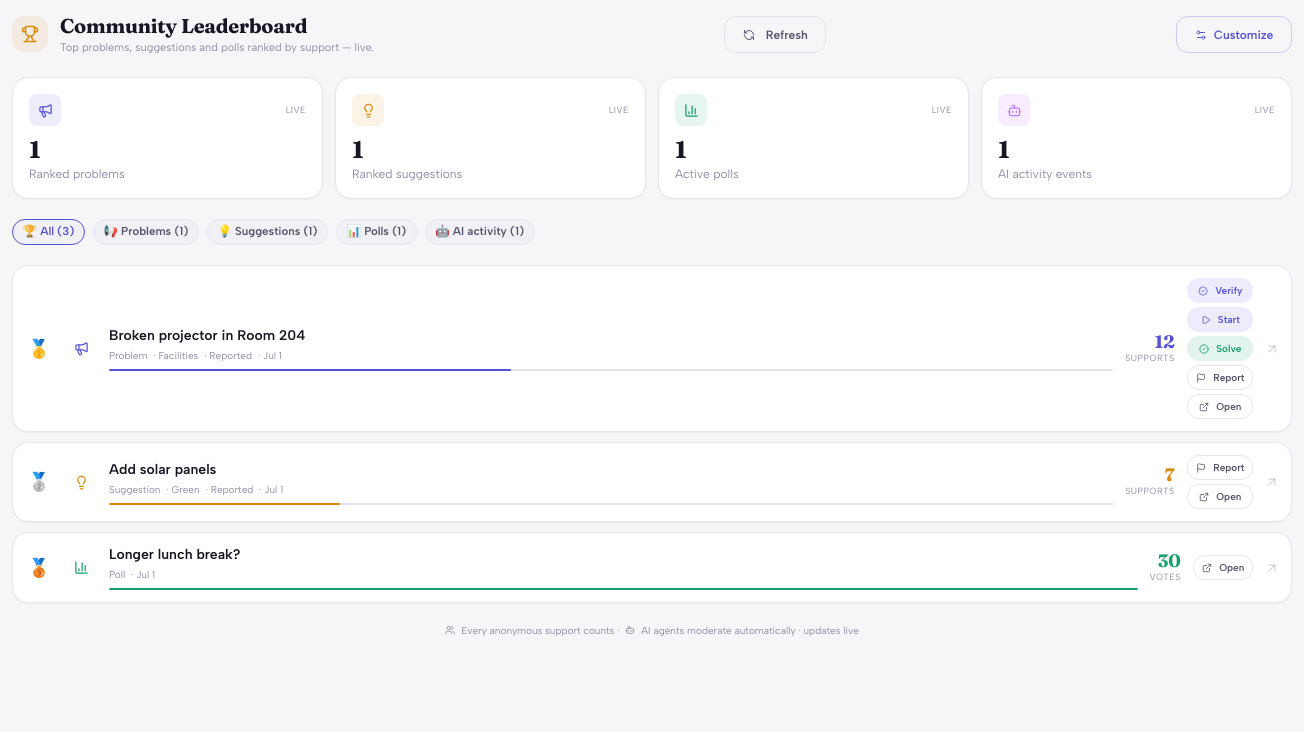
Test case: AdminLeaderboard — AI activity tab › renders AI activity entries with kind badge and time
Expected: the text "Broken projector in Room 204" is shown, 109,327 -> 305,344
Click the button "🤖 AI activity (1)": click(480, 232) 425,218 -> 534,245
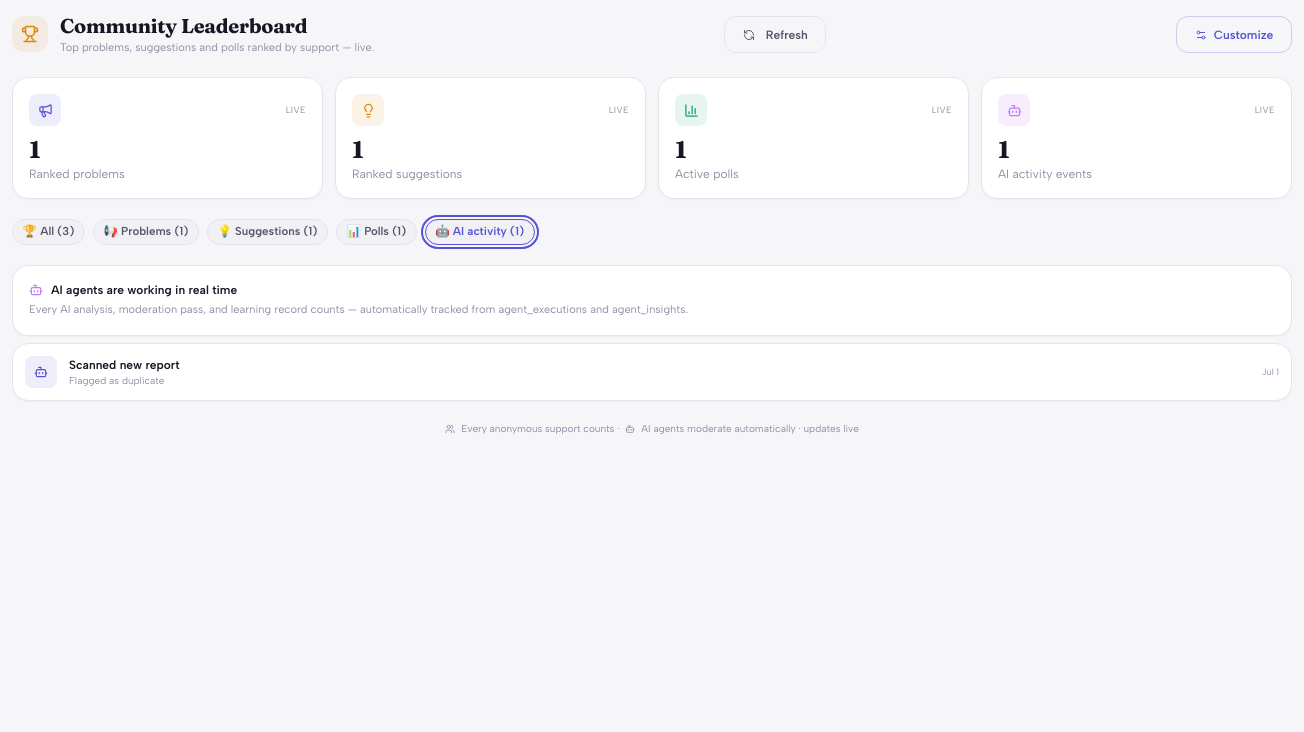
Expected: the text "Scanned new report" is shown, 69,358 -> 180,372
Expected: the text "Flagged as duplicate" is shown, 69,374 -> 164,387
